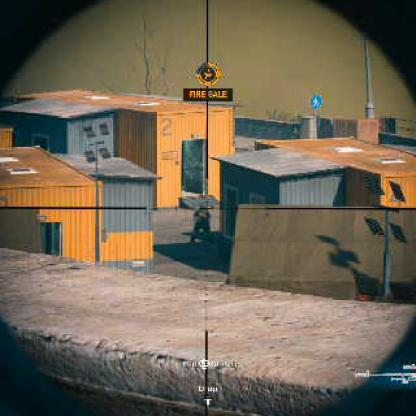enemy: (187, 203, 213, 240)
